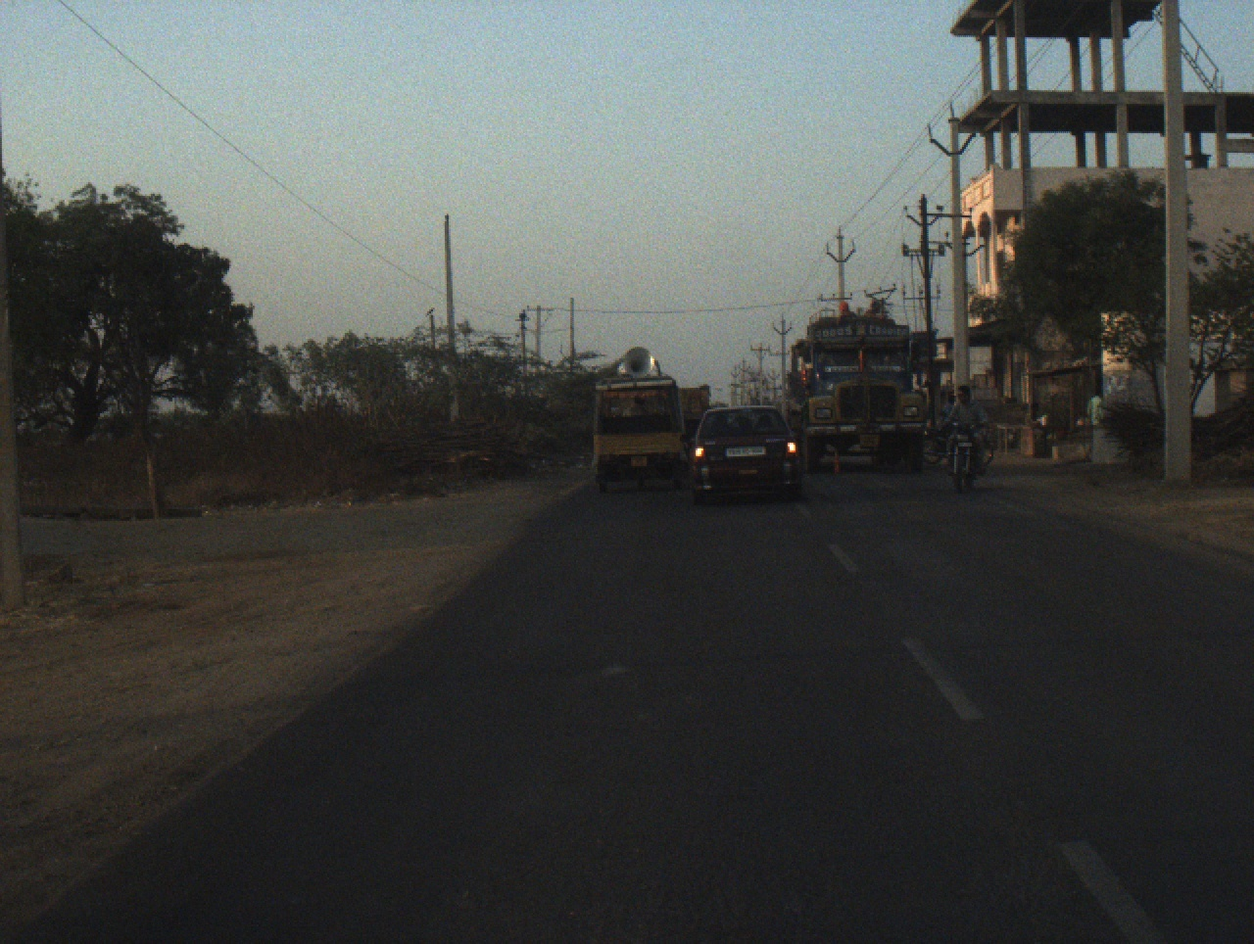autorickshaw: (586, 345, 689, 496)
car: (675, 403, 802, 505)
motorcycle: (916, 420, 992, 474), (939, 415, 985, 497)
person: (1083, 390, 1104, 433)
rider: (942, 382, 988, 476), (942, 393, 960, 432)
truck: (780, 307, 935, 474)
vehicle fallback: (675, 378, 712, 440)
